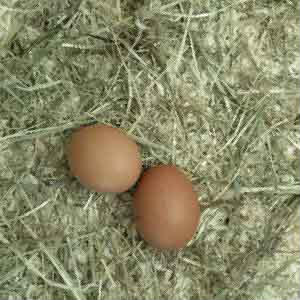egg: (132, 164, 202, 251), (64, 123, 144, 195)
